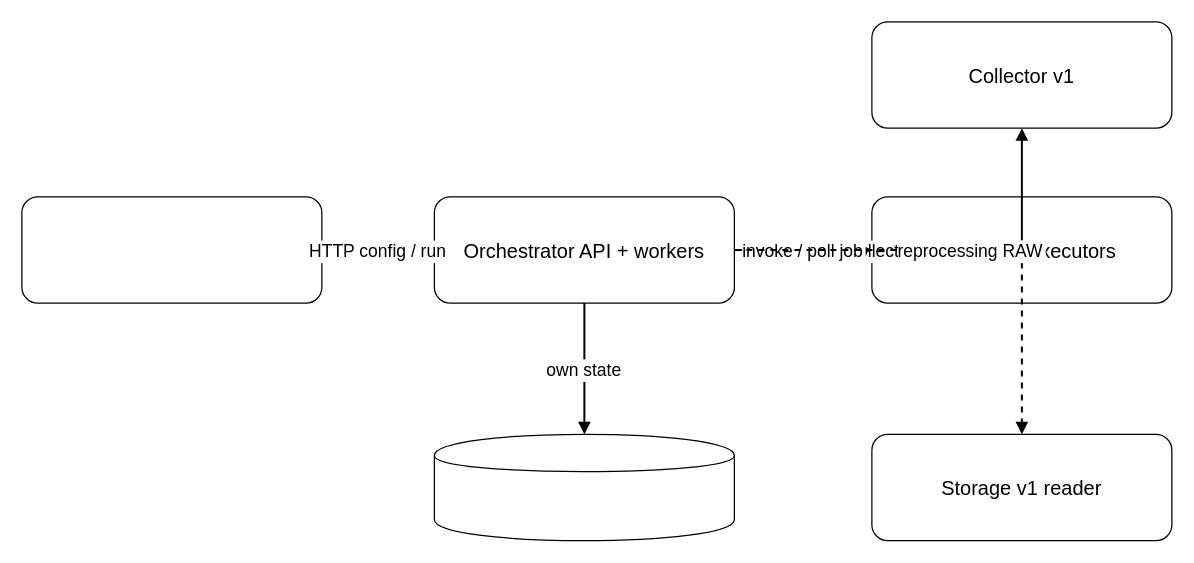
This 1194x563 diagram has some shape labels left out. The box of each missing label's shape, as (x1, y1, x2, y2) in pixels:
Admin / сторонній клієнт: (21, 196, 322, 303)
Own PostgreSQL config / queue / lease / audit: (433, 433, 734, 541)
